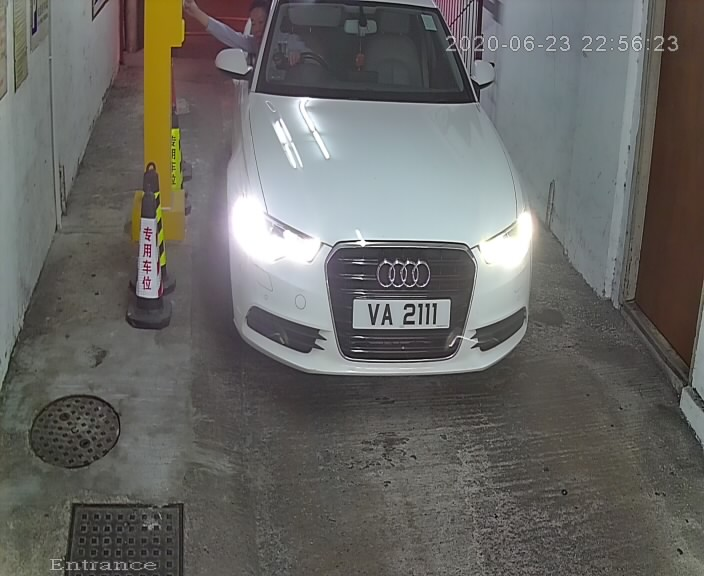privatecar: (202, 2, 543, 392)
